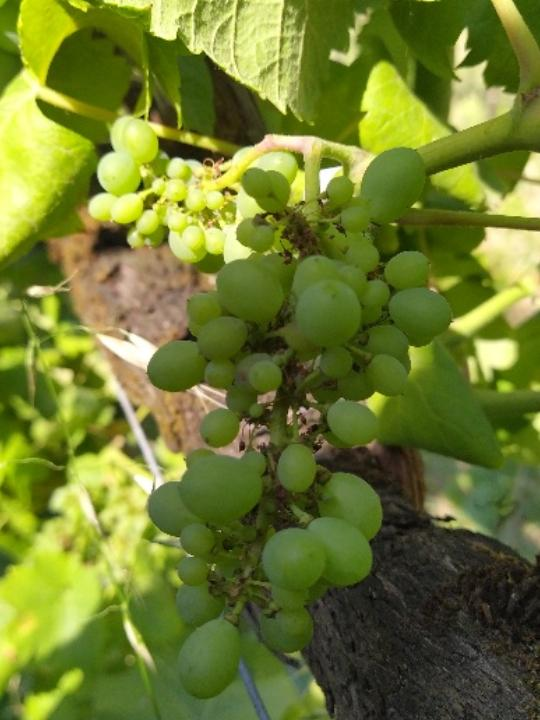grape: (135, 126, 464, 702), (82, 112, 227, 266)
